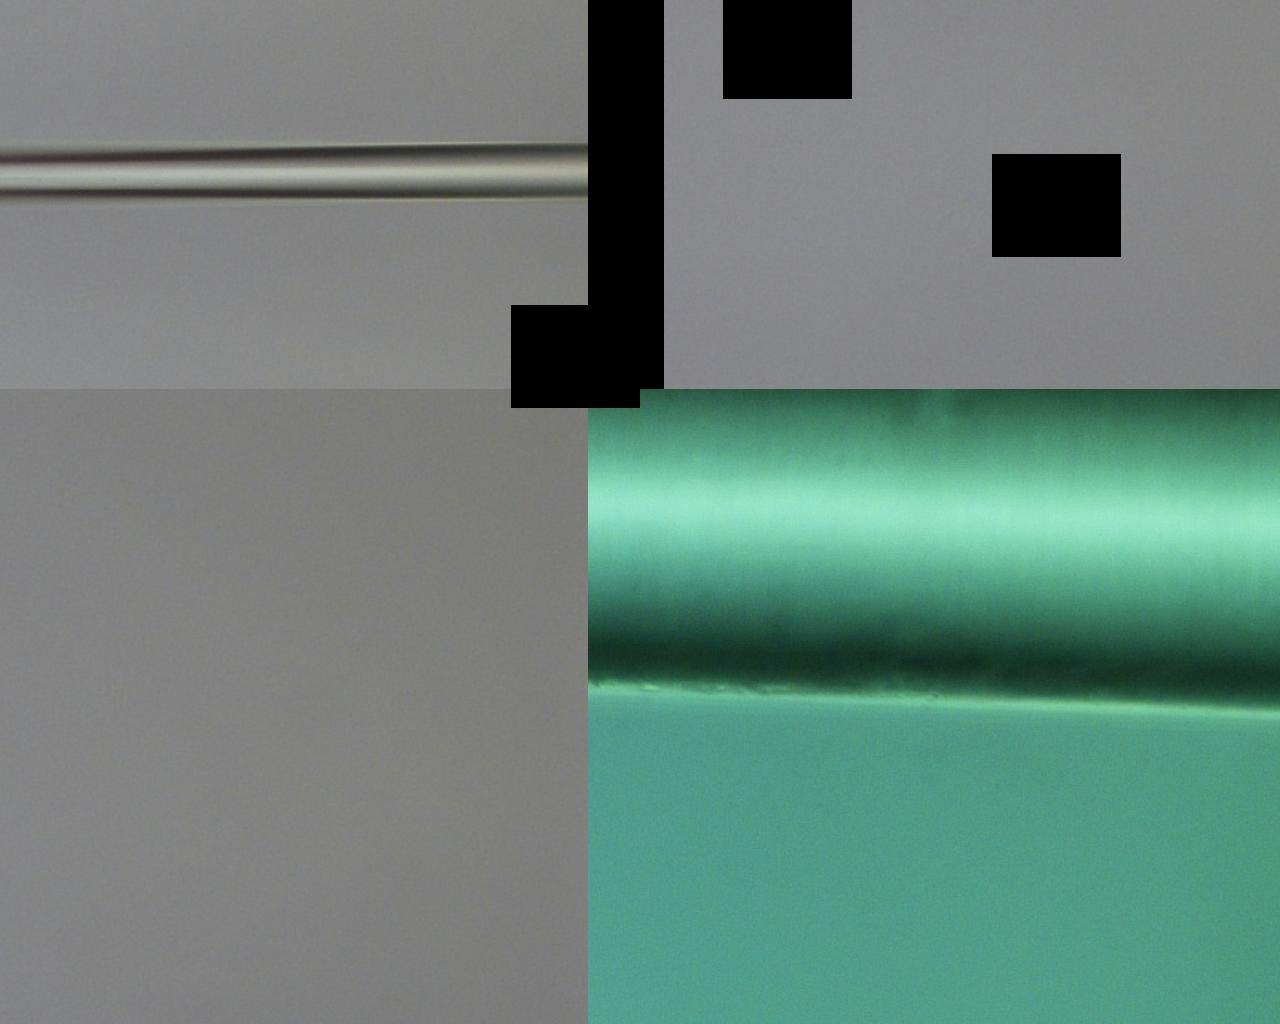fiber: (127, 418, 1151, 469)
